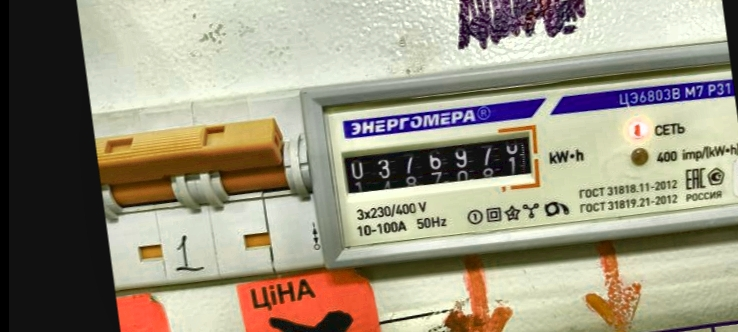0: (349, 157, 365, 181)
1: (507, 155, 520, 176)
3: (377, 158, 394, 180)
6: (427, 147, 445, 171)
7: (401, 151, 419, 177), (479, 143, 497, 168)
9: (453, 145, 470, 169)
screen: (332, 114, 549, 216)
